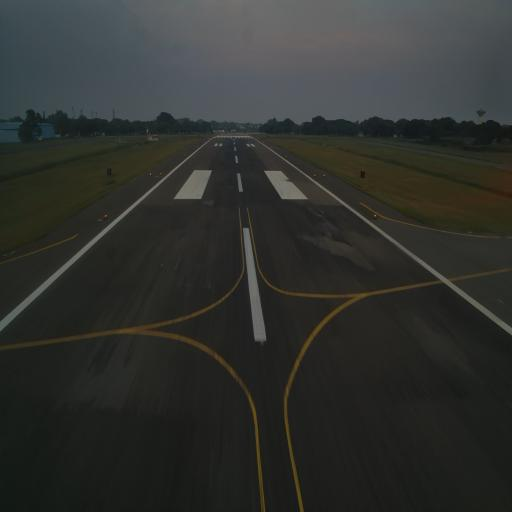on: (102, 212, 110, 220), (373, 211, 378, 220)
